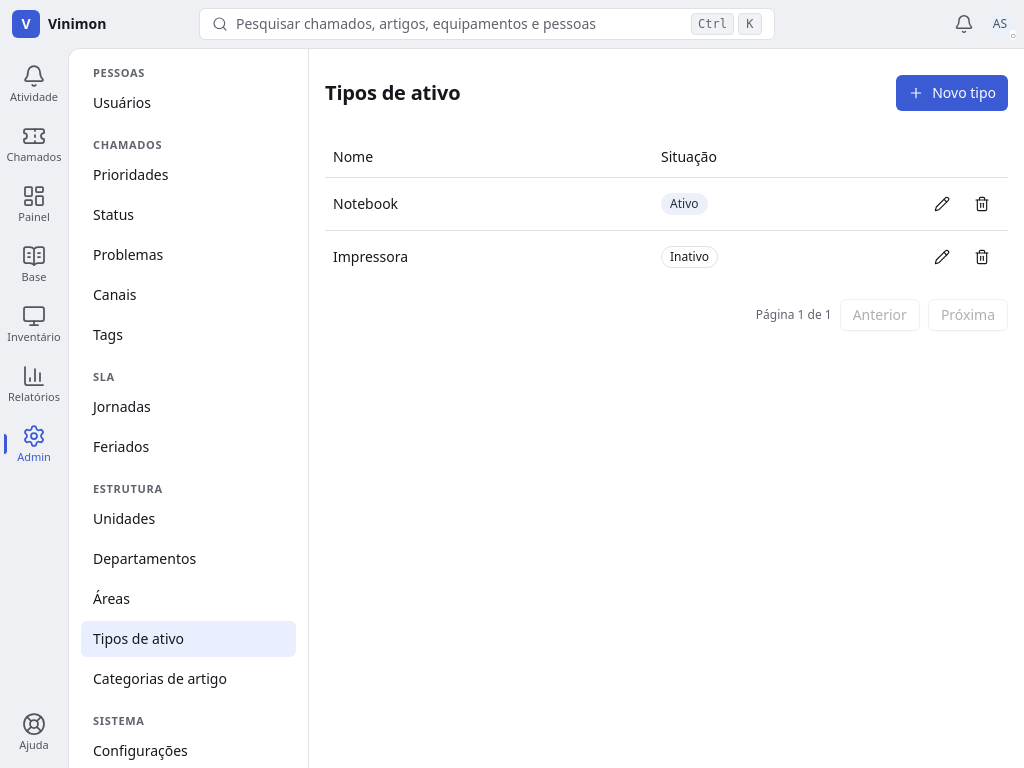
Test: /admin/tipos-ativo › (b) excluir confirma e faz DELETE /tipos-ativo/:id
Click the button named "Excluir Notebook" at (982, 204), box [964, 186, 1000, 222]
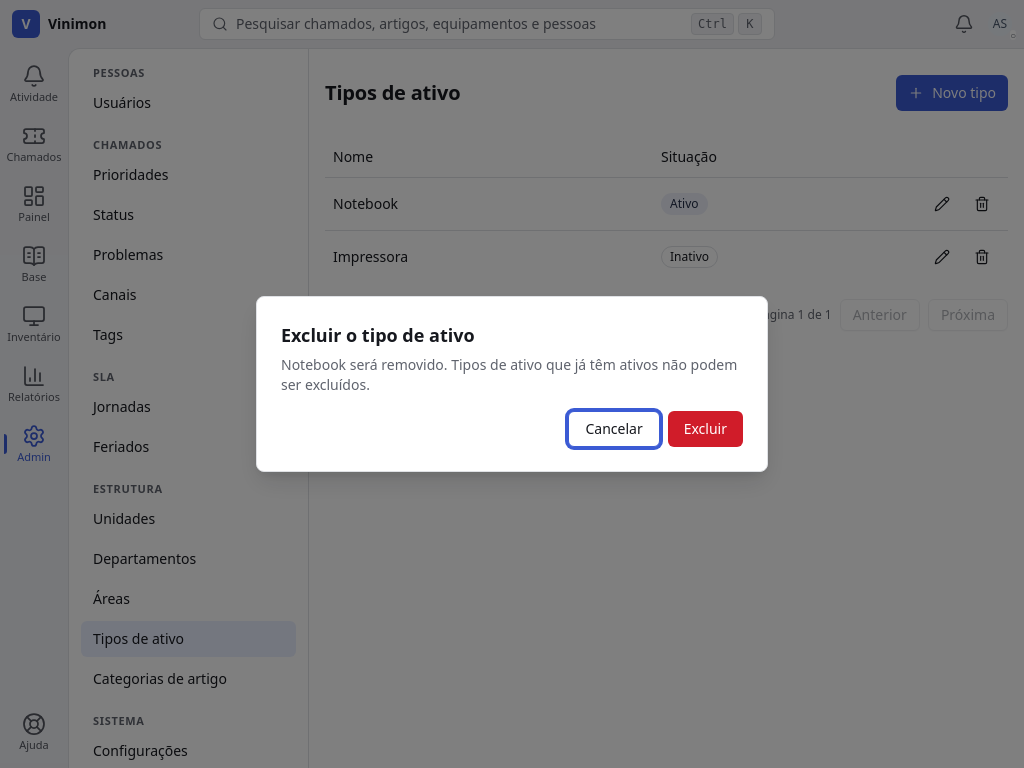
Click the button "Excluir" at (705, 429), box [668, 411, 743, 447]
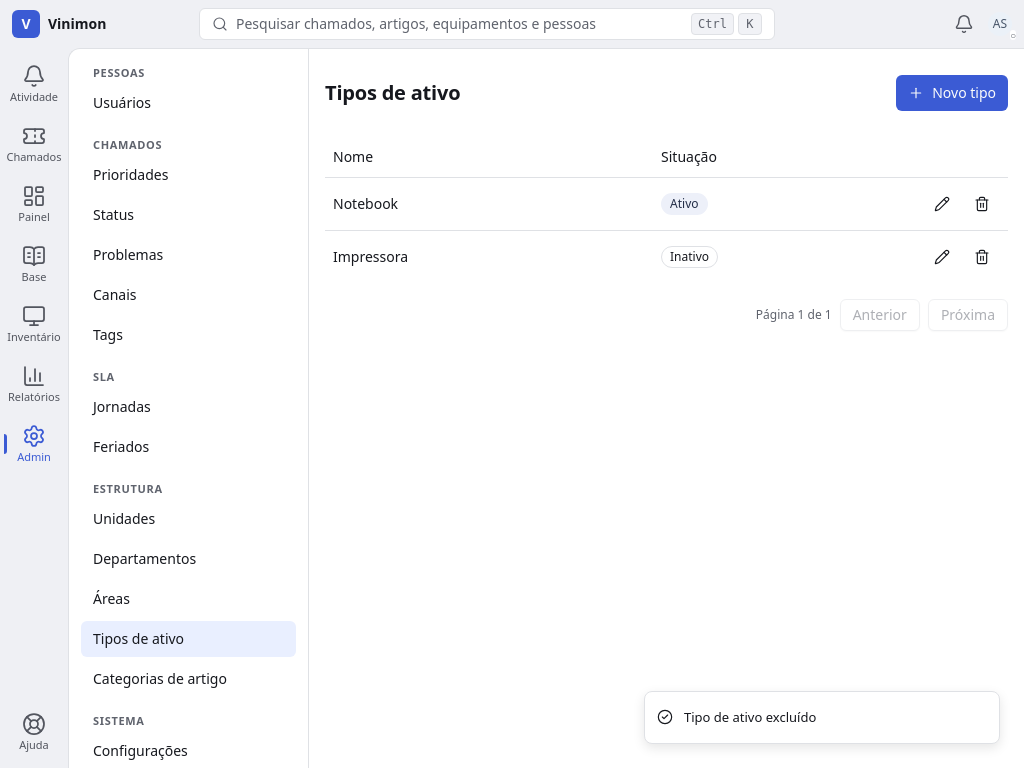
Now the text "Tipo de ativo excluído" is shown, box [684, 708, 816, 727]
